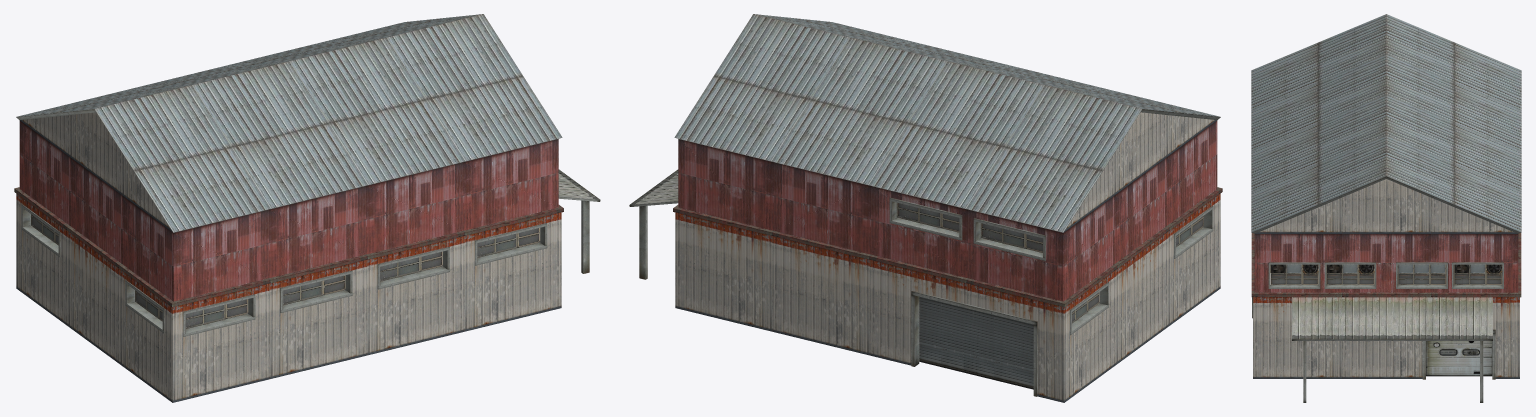
The model's file is Hangar_v2_basic.glb.
The picture shows the model from 3 angles, left to right: view 1: azimuth 30°, elevation 25°; view 2: azimuth 150°, elevation 25°; view 3: azimuth 270°, elevation 25°; orthographic projection. The views are drawn at different scales.
Parts seen in each view (by area): view 1: Hangar_v2_basic; view 2: Hangar_v2_basic; view 3: Hangar_v2_basic.
Part boxes in pixels (x1=…): Hangar_v2_basic: x1=14, y1=14, x2=600, y2=402; Hangar_v2_basic: x1=629, y1=14, x2=1222, y2=402; Hangar_v2_basic: x1=1251, y1=14, x2=1521, y2=402.
Bounding box in the file's own units: 22.91 × 11.47 × 13.86.
1 material, 1 textured.
